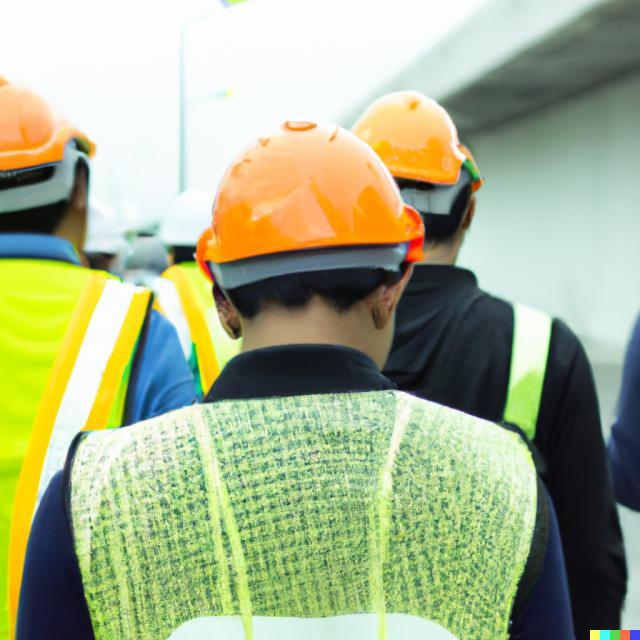Reflective-Jacket: (28, 284, 571, 640), (3, 243, 154, 640)
Safety-Helmet: (192, 120, 426, 272), (341, 86, 478, 192), (0, 59, 95, 190)
